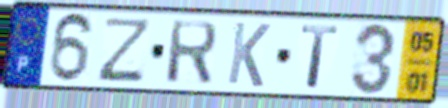3: (349, 21, 397, 98)
6: (48, 10, 99, 87)
K: (224, 19, 273, 90)
R: (163, 19, 220, 88)
T: (299, 24, 342, 91)
Z: (94, 15, 156, 83)
